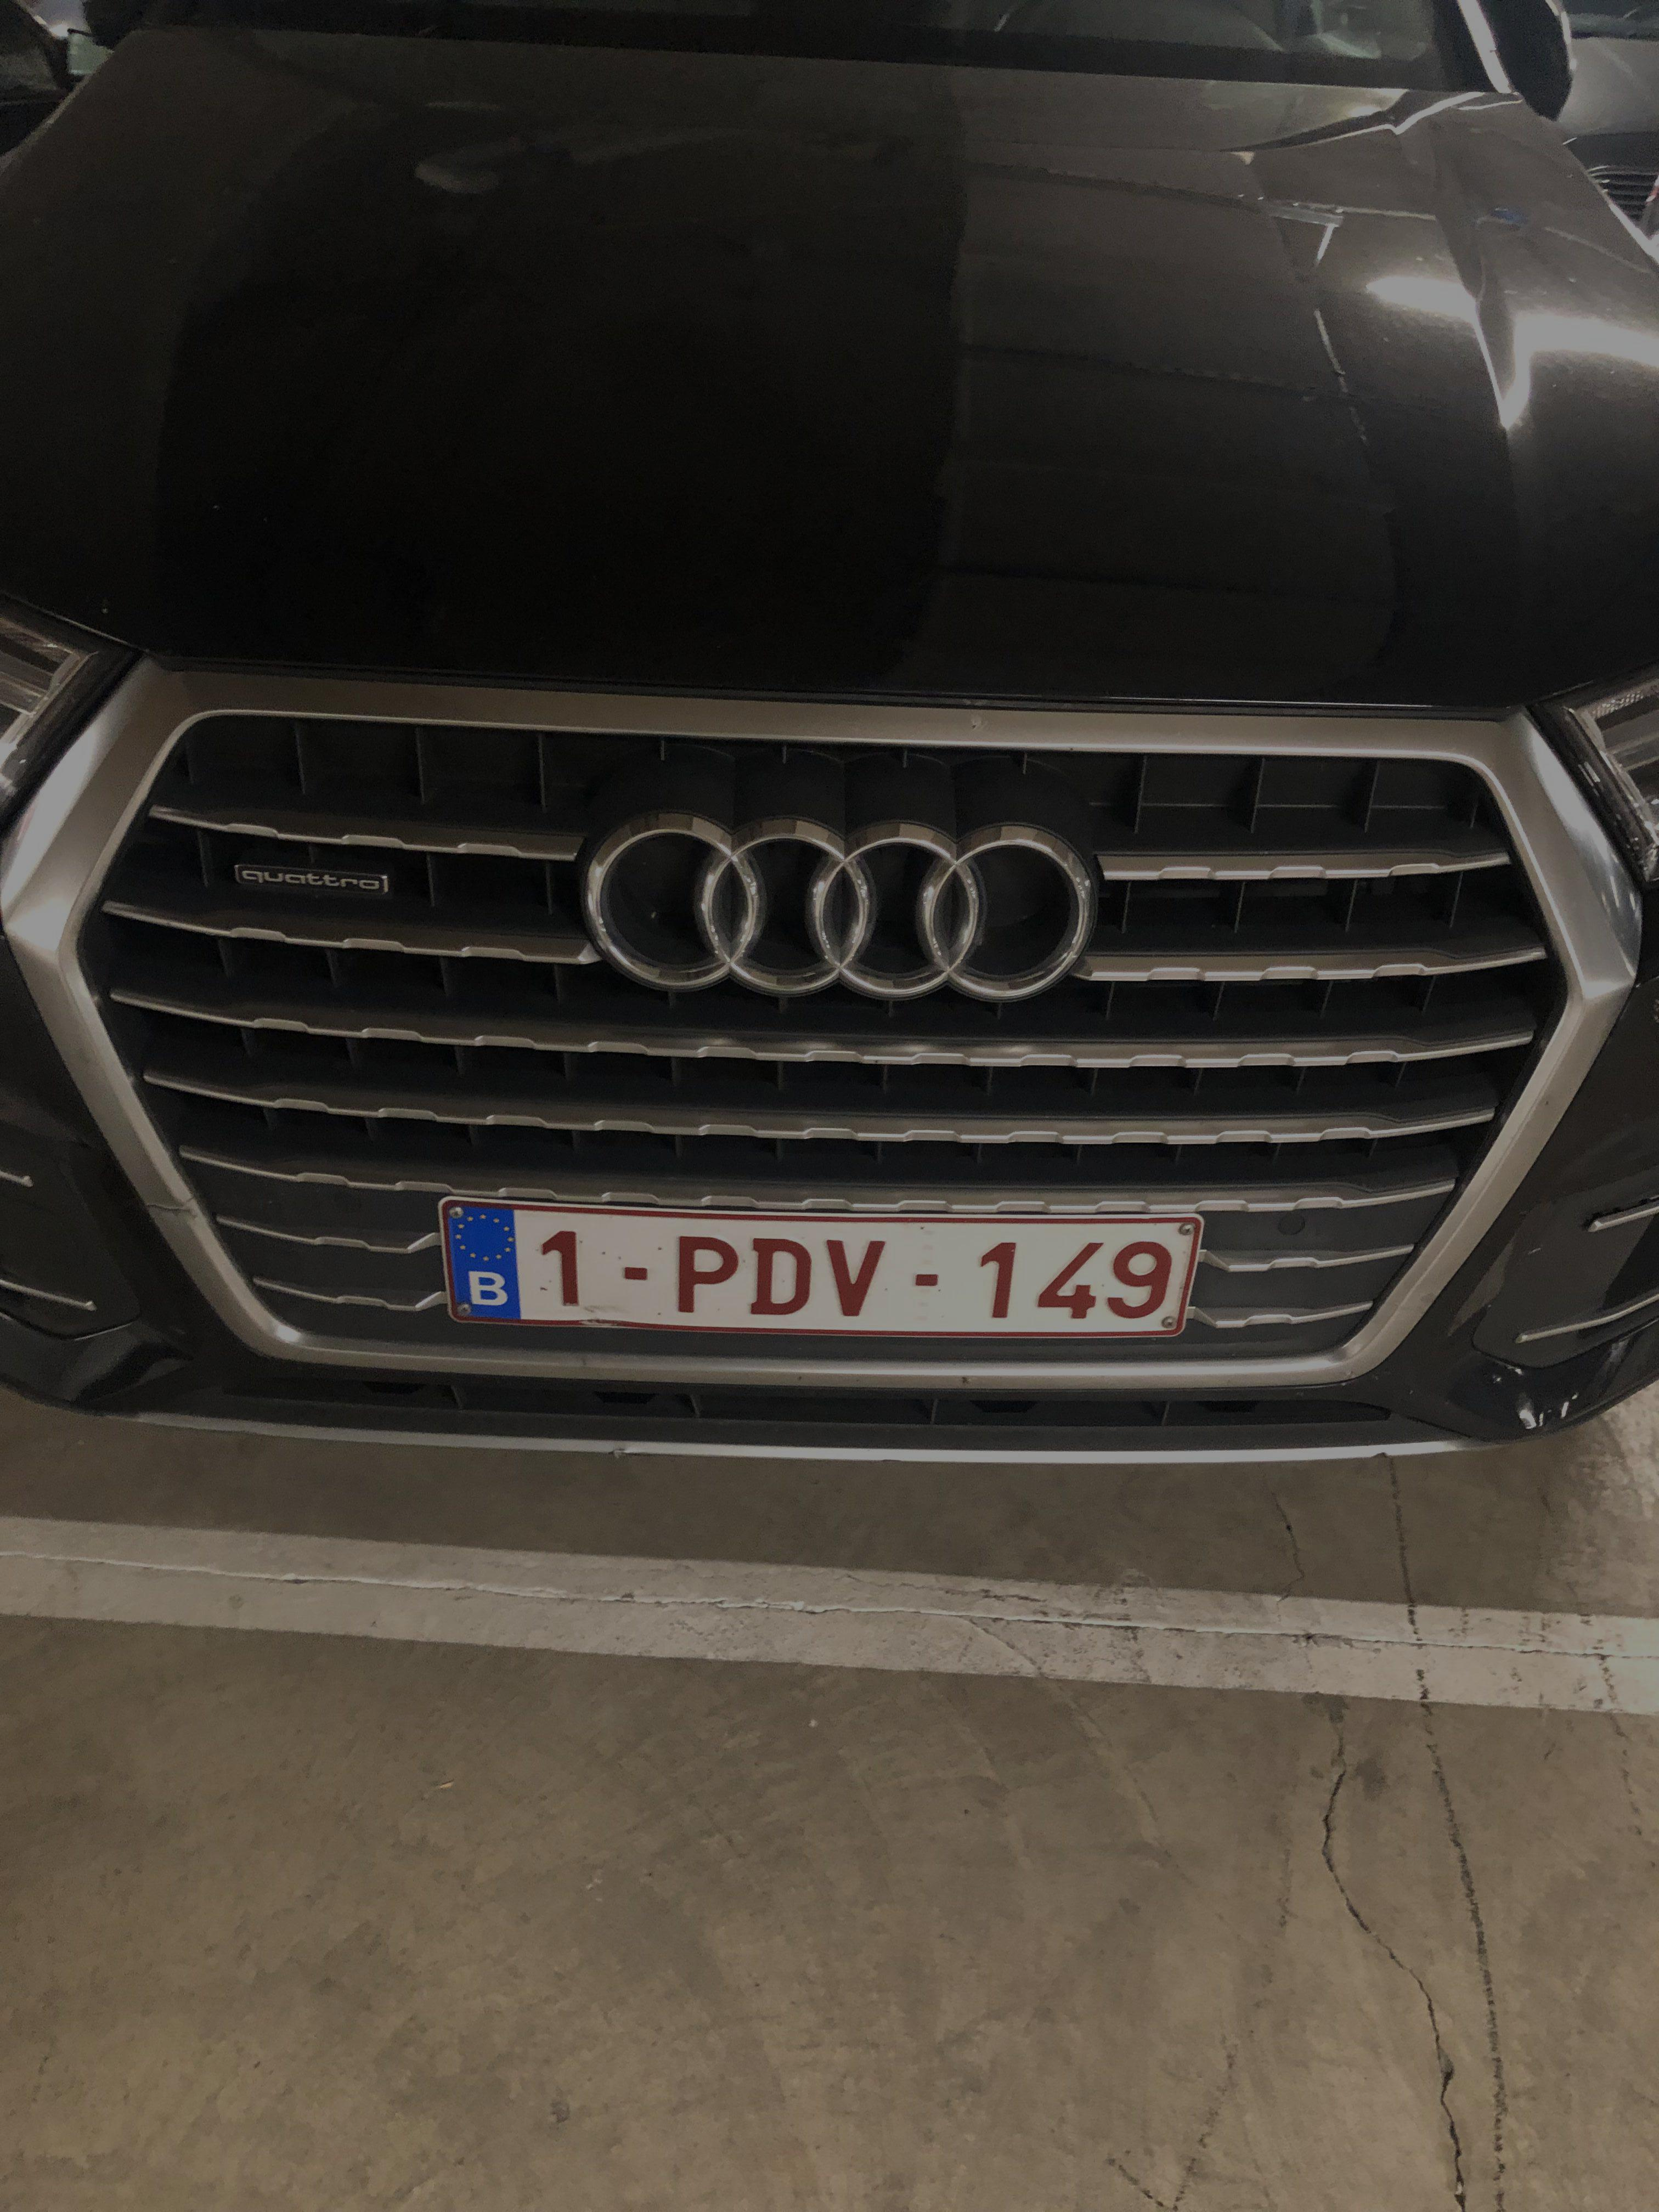plate: (405, 1162, 1228, 1361)
